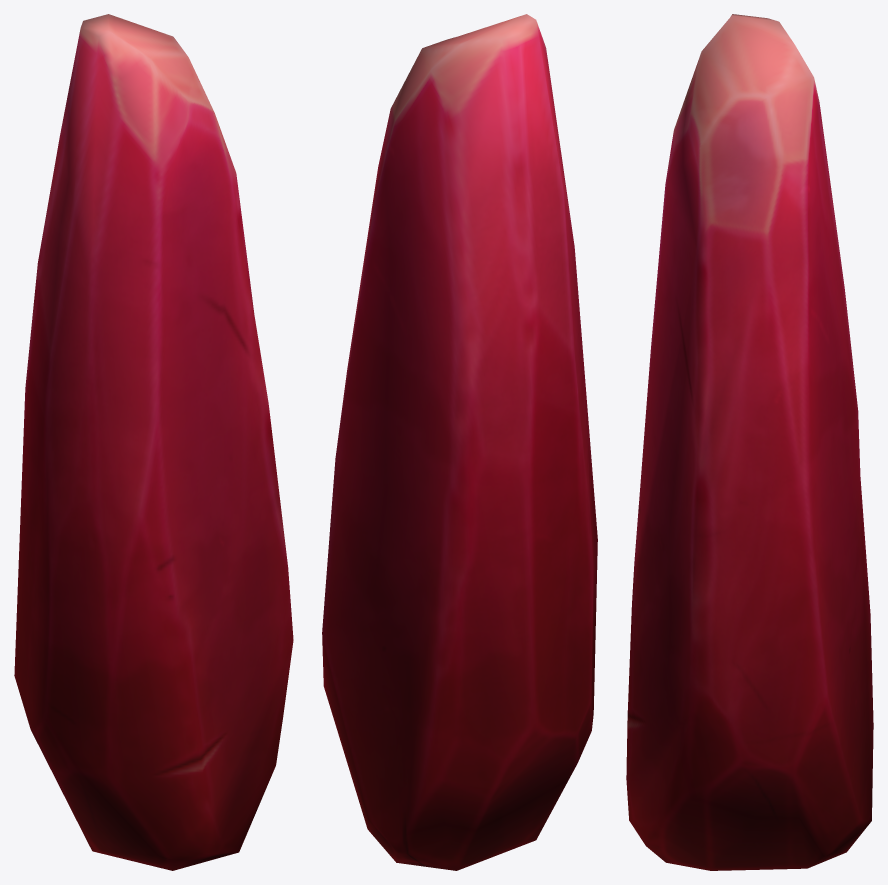
Rendered from SM_Gem_Ruby_003.fbx.
The picture shows the model from 3 angles, left to right: view 1: azimuth 30°, elevation 25°; view 2: azimuth 150°, elevation 25°; view 3: azimuth 270°, elevation 25°; orthographic projection. The views are drawn at different scales.
Visible parts, largest first — view 1: SM_Gem_Ruby_003; view 2: SM_Gem_Ruby_003; view 3: SM_Gem_Ruby_003.
Part boxes in pixels (x1=…): SM_Gem_Ruby_003: x1=14, y1=14, x2=293, y2=870; SM_Gem_Ruby_003: x1=322, y1=14, x2=597, y2=870; SM_Gem_Ruby_003: x1=626, y1=14, x2=873, y2=870.
Size of the model in its own units: 20.67 by 66.68 by 18.6.
